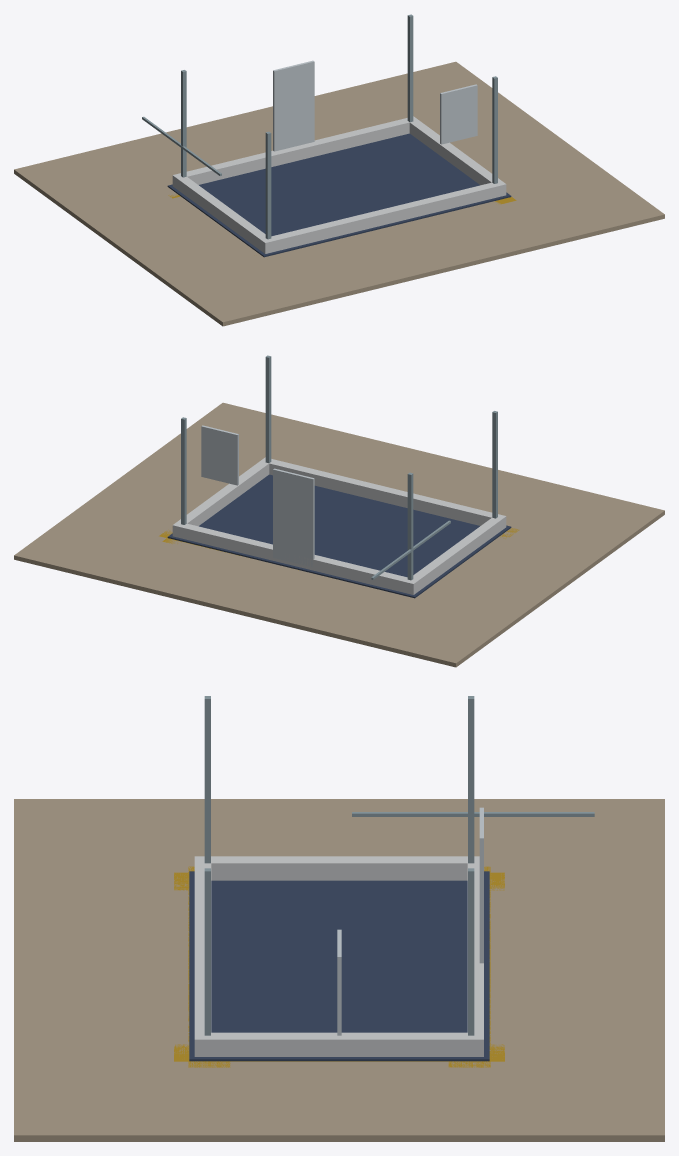
File: stage_08_bands.glb
The picture shows the model from 3 angles, top to bottom: view 1: azimuth 30°, elevation 25°; view 2: azimuth 150°, elevation 25°; view 3: azimuth 270°, elevation 25°; orthographic projection. The views are drawn at different scales.
Visible parts, largest first — view 1: world; view 2: world; view 3: world.
Part boxes in pixels (<box>): world: <box>14,14,664,326</box>; world: <box>14,355,664,667</box>; world: <box>14,696,664,1141</box>.
Size of the model in its own units: 11 by 3.6 by 9.
